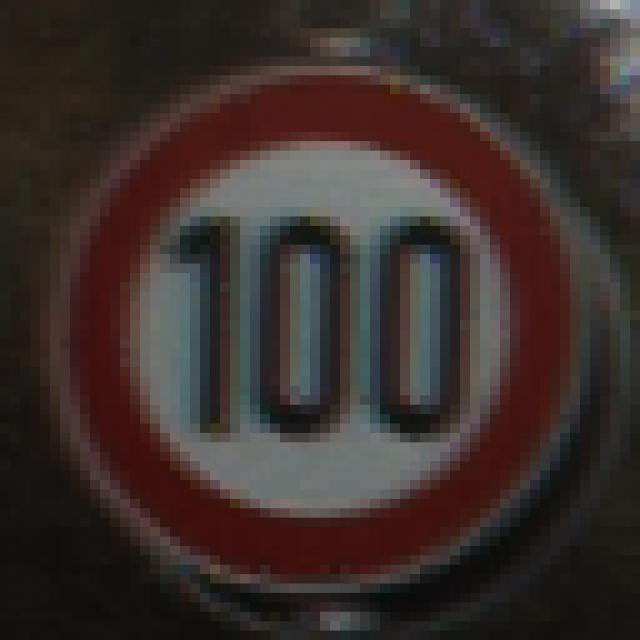speed limit 100: (42, 50, 616, 600)
